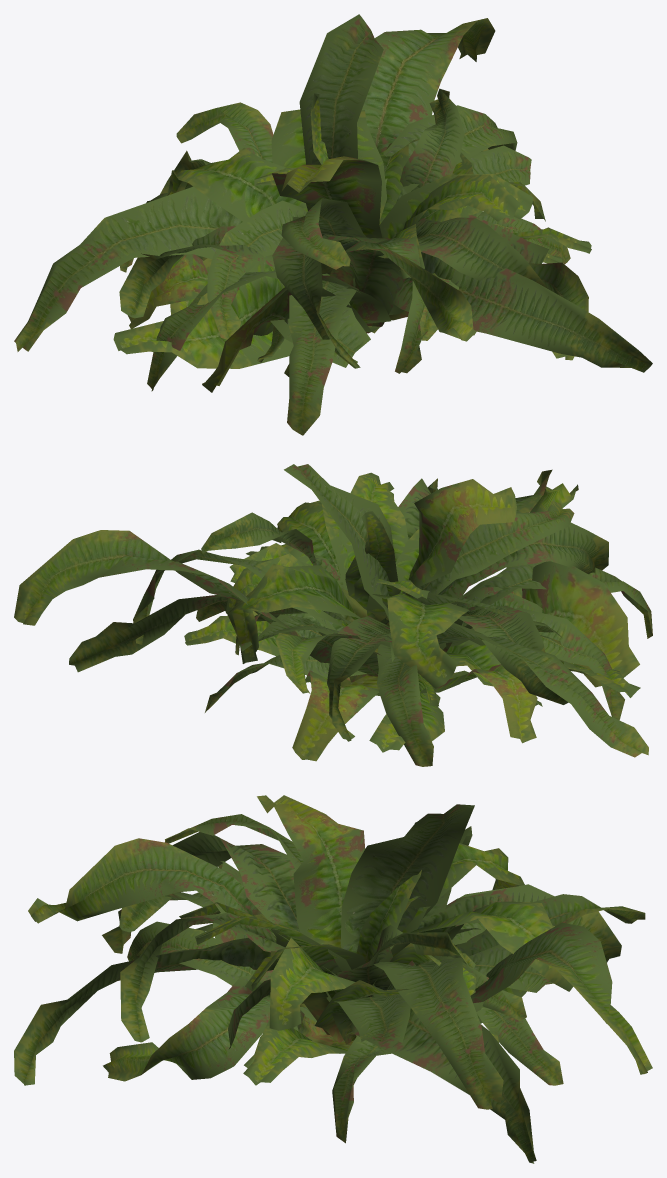
Rendered from fern.glb.
3 renders of one model, top to bottom at view 1: azimuth 30°, elevation 25°; view 2: azimuth 150°, elevation 25°; view 3: azimuth 270°, elevation 25°, orthographic. The views are drawn at different scales.
Visible parts, largest first — view 1: fern_0, fern_1, fern_3, fern_2; view 2: fern_0, fern_1, fern_2, fern_3; view 3: fern_0, fern_1, fern_2, fern_3.
Boxes of the visible parts, bbox=[...] form: fern_0: bbox=[14, 14, 652, 435]; fern_1: bbox=[113, 93, 588, 376]; fern_3: bbox=[171, 152, 562, 362]; fern_2: bbox=[170, 88, 548, 340]; fern_0: bbox=[14, 464, 652, 761]; fern_1: bbox=[69, 478, 640, 766]; fern_2: bbox=[201, 512, 542, 706]; fern_3: bbox=[229, 529, 562, 752]; fern_0: bbox=[14, 795, 652, 1143]; fern_1: bbox=[103, 814, 645, 1163]; fern_2: bbox=[137, 896, 563, 1085]; fern_3: bbox=[179, 902, 526, 1068].
Size of the model in its own units: 0.989 by 0.4277 by 0.8937.
Materials: 1 (1 with a texture image).
